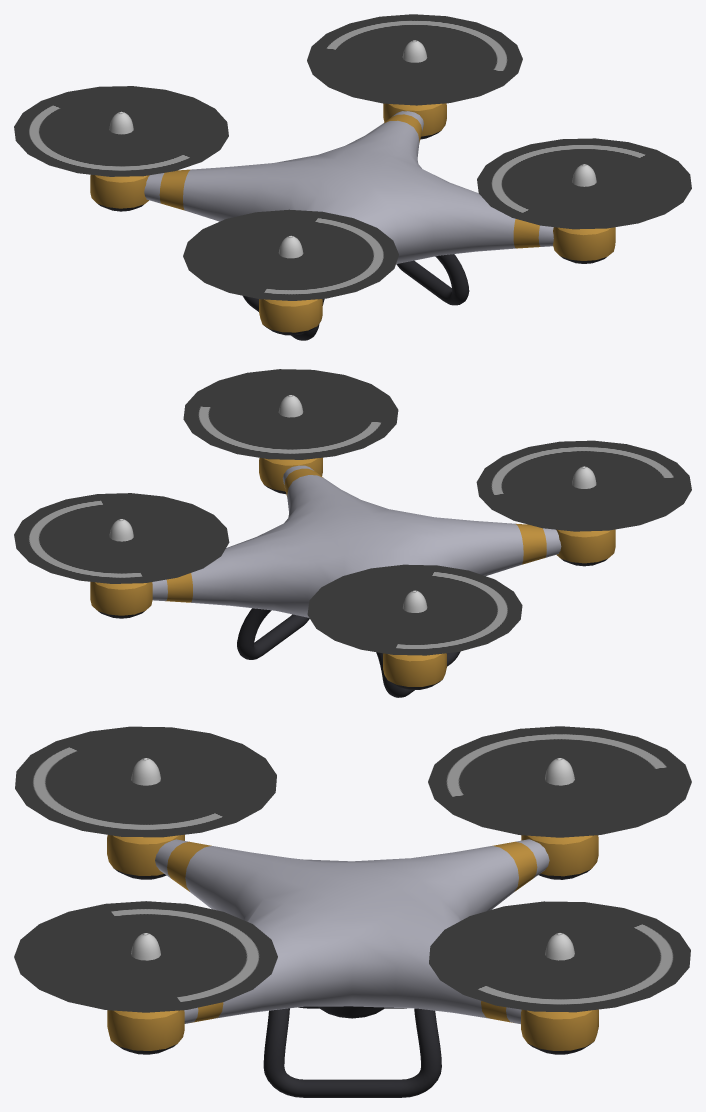
The model's file is drone-01.glb.
The picture shows the model from 3 angles, top to bottom: view 1: azimuth 30°, elevation 25°; view 2: azimuth 150°, elevation 25°; view 3: azimuth 270°, elevation 25°; orthographic projection. The views are drawn at different scales.
Parts seen in each view (by area): view 1: Box178, propeller_009, propeller_012, propeller_011, propeller_010; view 2: Box178, propeller_011, propeller_012, propeller_010, propeller_009; view 3: Box178, propeller_009, propeller_012, propeller_011, propeller_010.
Part boxes in pixels (x1,y1,x2,y2): Box178: [90, 40, 615, 340]; propeller_009: [14, 86, 228, 176]; propeller_012: [477, 138, 691, 229]; propeller_011: [307, 14, 522, 105]; propeller_010: [183, 209, 398, 300]; Box178: [90, 395, 615, 697]; propeller_011: [14, 493, 229, 583]; propeller_012: [183, 369, 398, 459]; propeller_010: [476, 440, 691, 531]; propeller_009: [307, 564, 522, 655]; Box178: [107, 758, 598, 1097]; propeller_009: [428, 726, 691, 837]; propeller_012: [14, 901, 277, 1012]; propeller_011: [429, 901, 690, 1012]; propeller_010: [15, 726, 276, 837].
Bounding box in the file's own units: 3.48 × 1.17 × 3.48.
2 materials, 1 textured.
